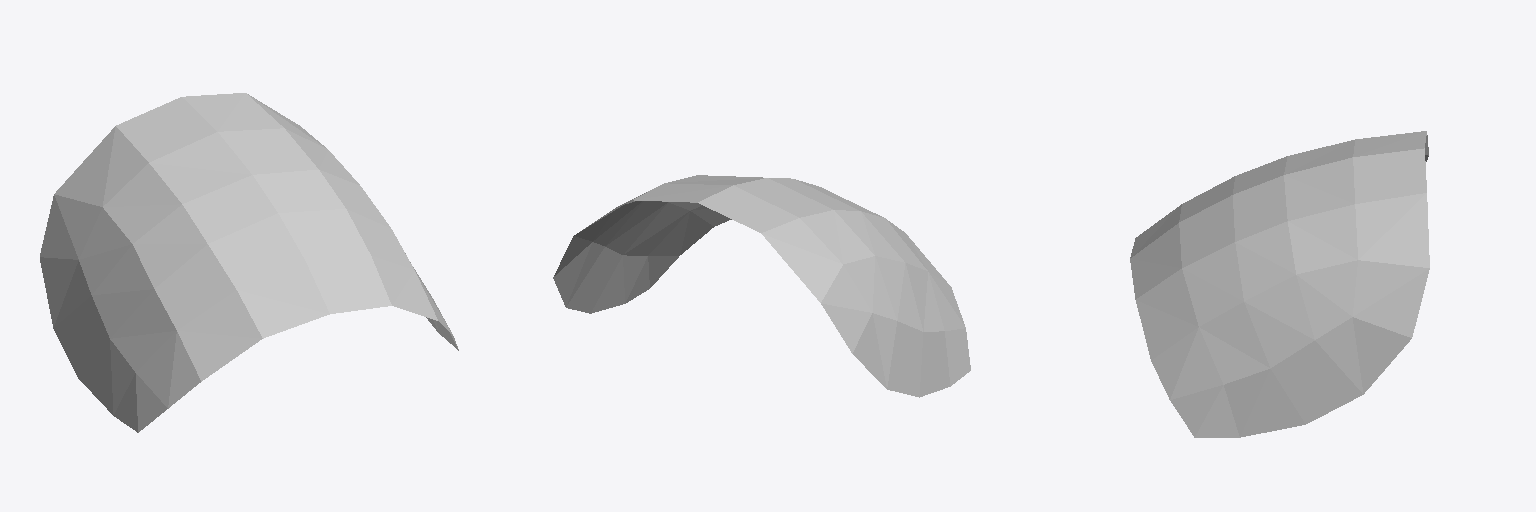
Rendered from envhelmet.obj.
The picture shows the model from 3 angles: view 1: azimuth 30°, elevation 25°; view 2: azimuth 150°, elevation 25°; view 3: azimuth 270°, elevation 25°; orthographic projection.
Visible parts, largest first — view 1: Visor; view 2: Visor; view 3: Visor.
Boxes of the visible parts, box(x1,y1,x2,y2) form: Visor: box(40, 93, 458, 432); Visor: box(553, 175, 970, 397); Visor: box(1130, 131, 1429, 437).
Bounding box in the file's own units: 10.68 × 6.62 × 8.44.